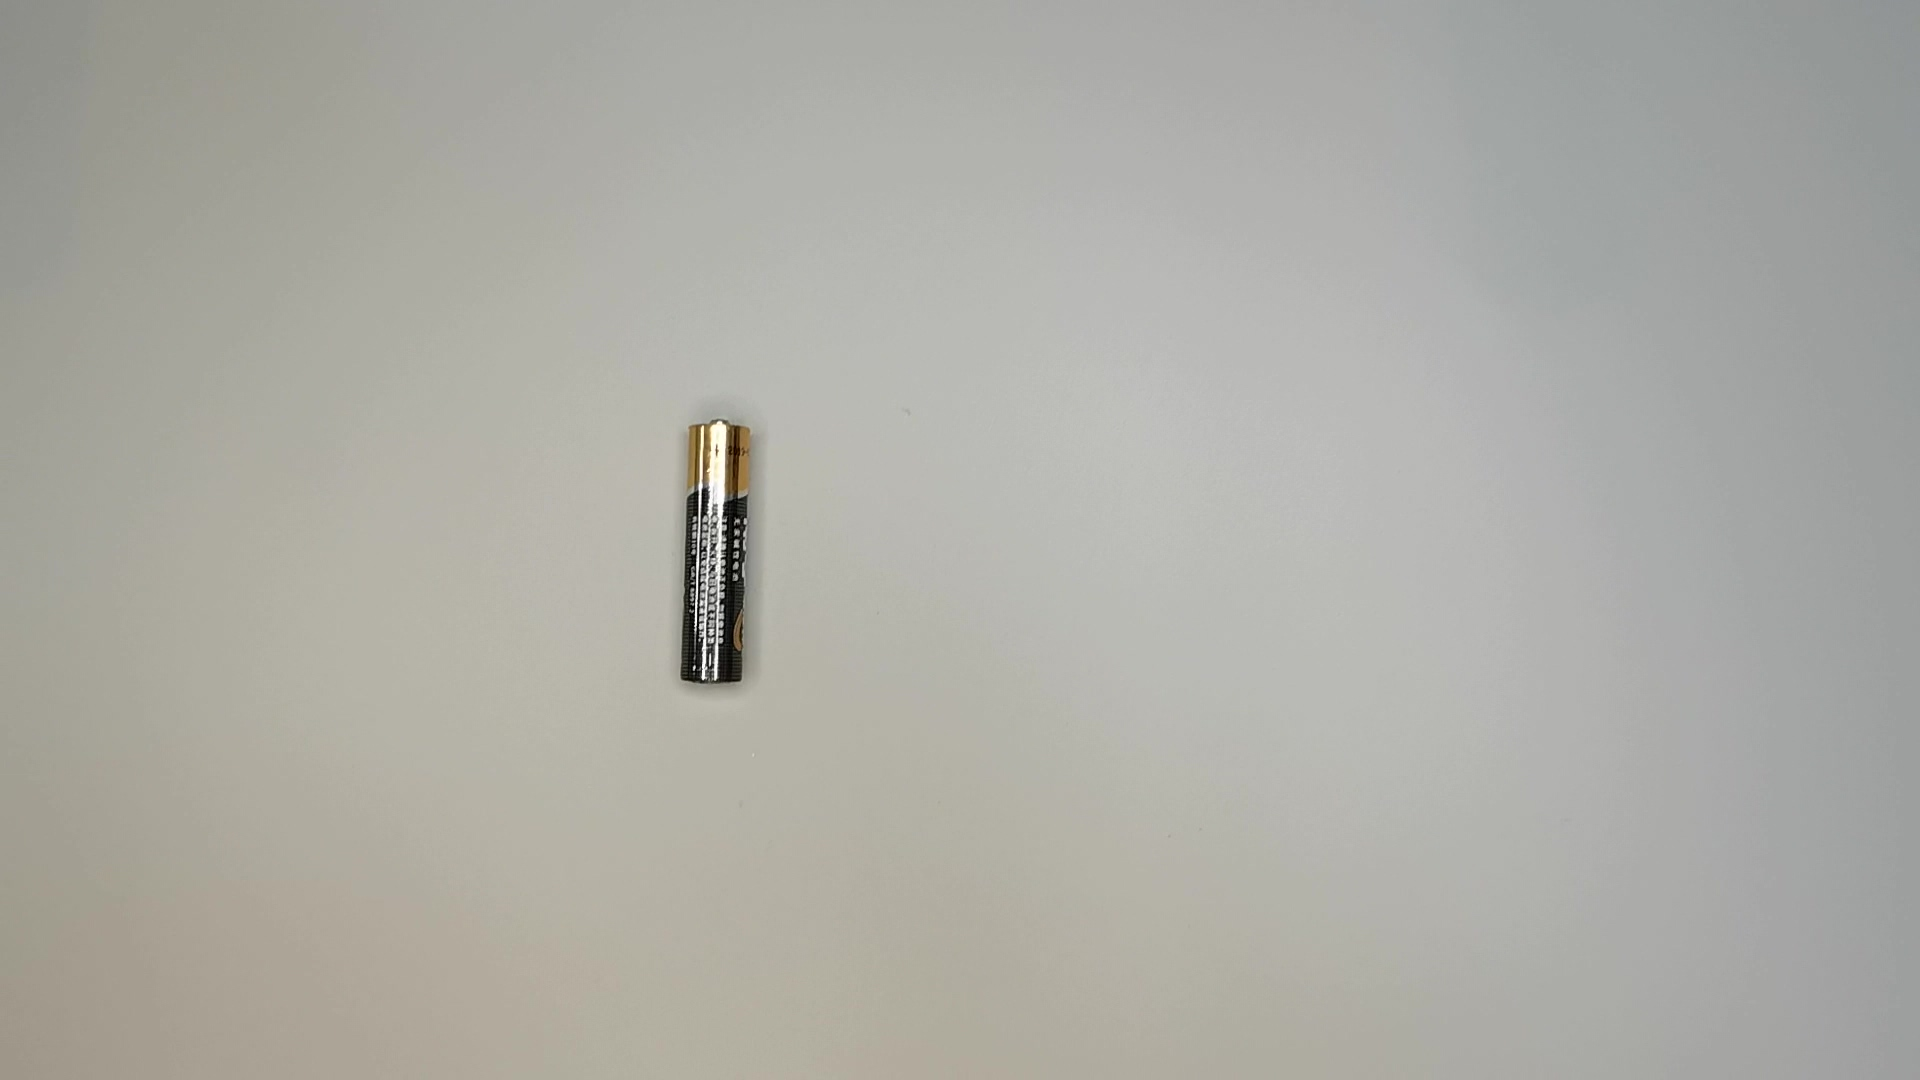battery: (676, 411, 760, 691)
